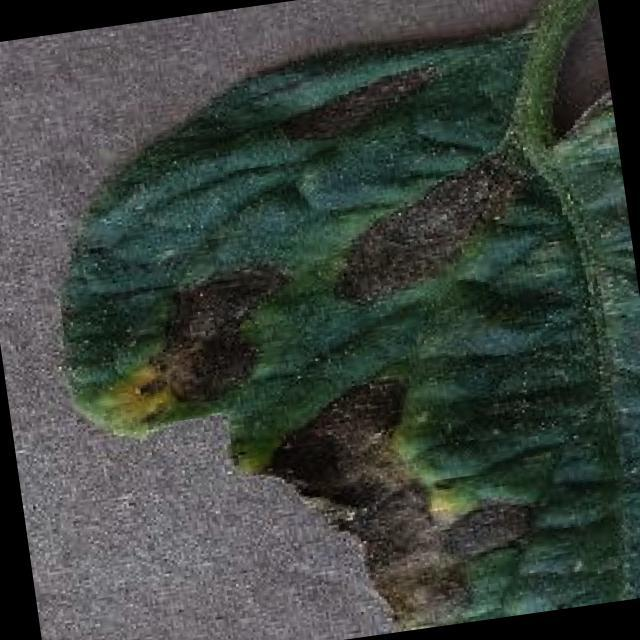Tomato Early blight leaf: (24, 23, 640, 640)
